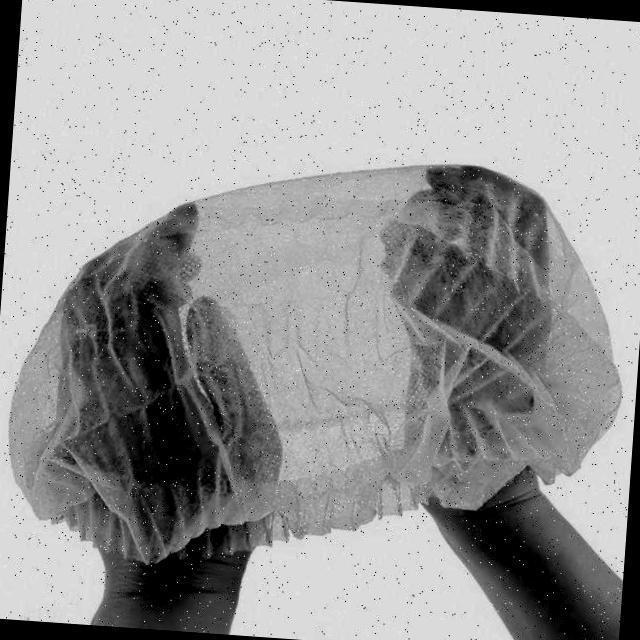gloves: (25, 166, 640, 549)
